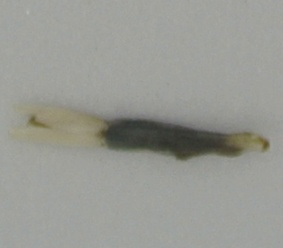เมล็ดงอกแตก: (7, 98, 272, 165)
